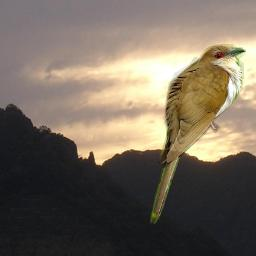Cuckoo: (149, 44, 246, 224)
